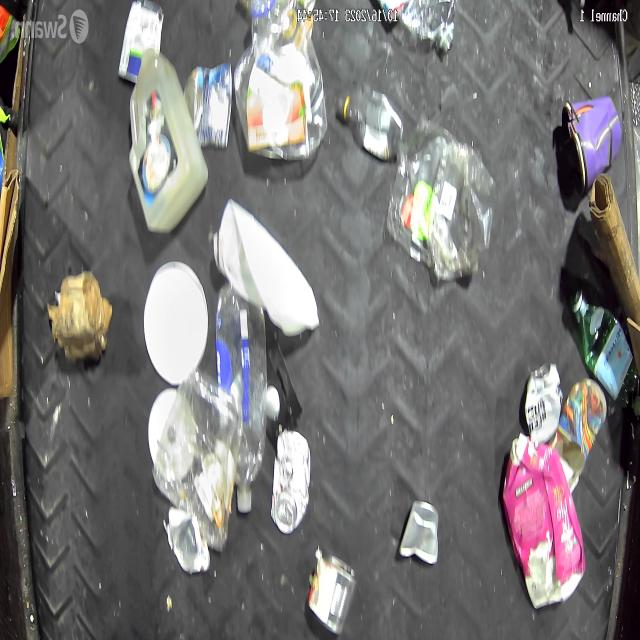can: (182, 60, 233, 151), (306, 548, 358, 636), (270, 428, 312, 536), (522, 359, 564, 444), (398, 498, 439, 566)
milk_jug: (212, 198, 321, 341)
non_white_jug: (126, 52, 209, 239), (501, 433, 586, 610)
plastic_bottle: (386, 130, 494, 282), (152, 370, 242, 550), (235, 0, 328, 161), (212, 277, 270, 519), (571, 288, 640, 408), (332, 80, 404, 164), (377, 0, 457, 52)
